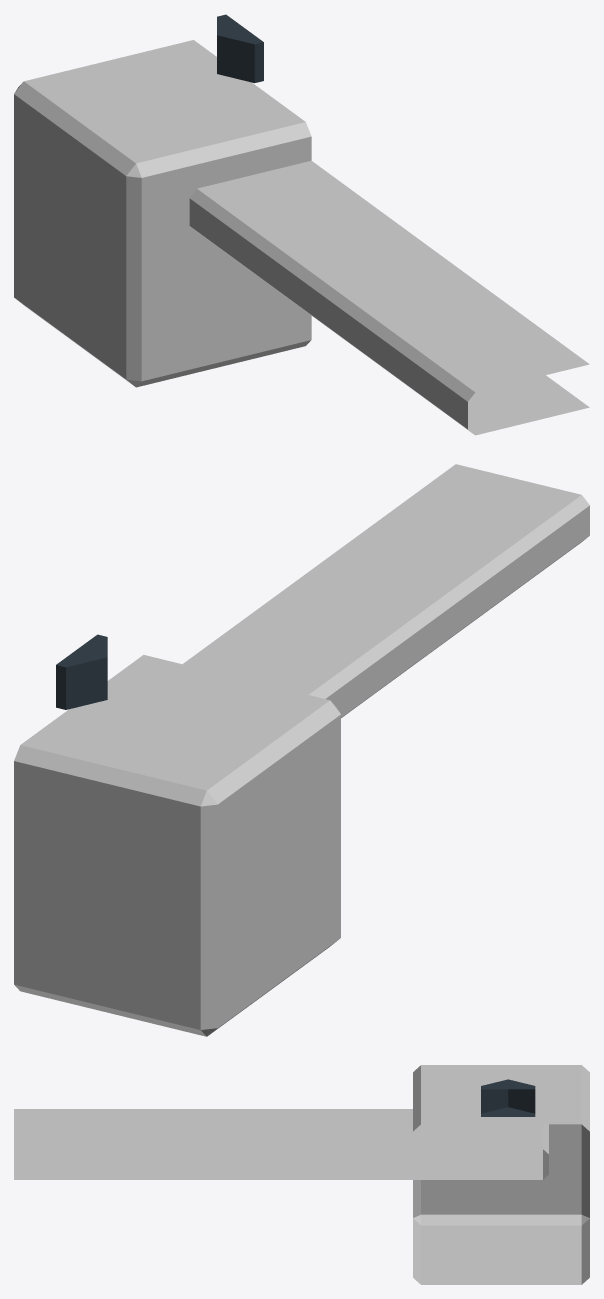
The model's file is cell_0.obj.
3 renders of one model, top to bottom at view 1: azimuth 30°, elevation 25°; view 2: azimuth 150°, elevation 25°; view 3: azimuth 270°, elevation 25°, orthographic. The views are drawn at different scales.
Bounding box in the file's own units: 0.24 × 0.3487 × 0.93.
